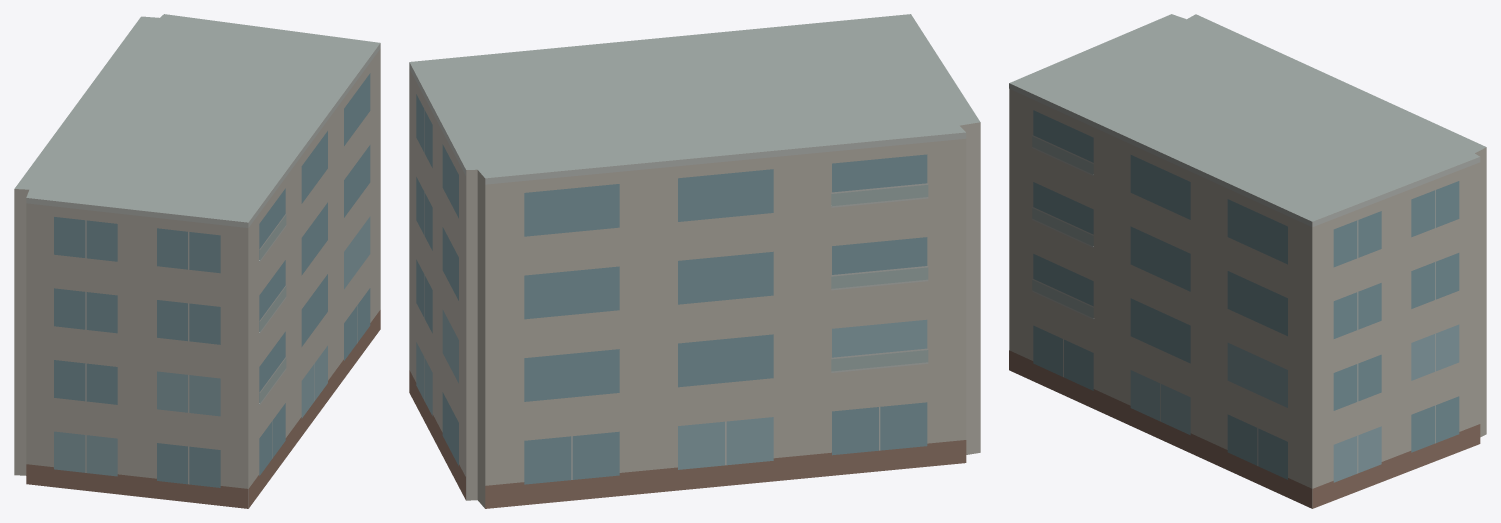
Rendered from survey-upis-32629884.glb.
3 renders of one model, left to right at view 1: azimuth 30°, elevation 25°; view 2: azimuth 150°, elevation 25°; view 3: azimuth 270°, elevation 25°, orthographic. The views are drawn at different scales.
Visible parts, largest first — view 1: survey-upis-32629884.tmp; view 2: survey-upis-32629884.tmp; view 3: survey-upis-32629884.tmp.
Boxes of the visible parts, x1=… form: survey-upis-32629884.tmp: x1=14, y1=14, x2=380, y2=508; survey-upis-32629884.tmp: x1=409, y1=14, x2=980, y2=508; survey-upis-32629884.tmp: x1=1009, y1=14, x2=1486, y2=508.
Size of the model in its own units: 19.88 by 12.8 by 19.3.
